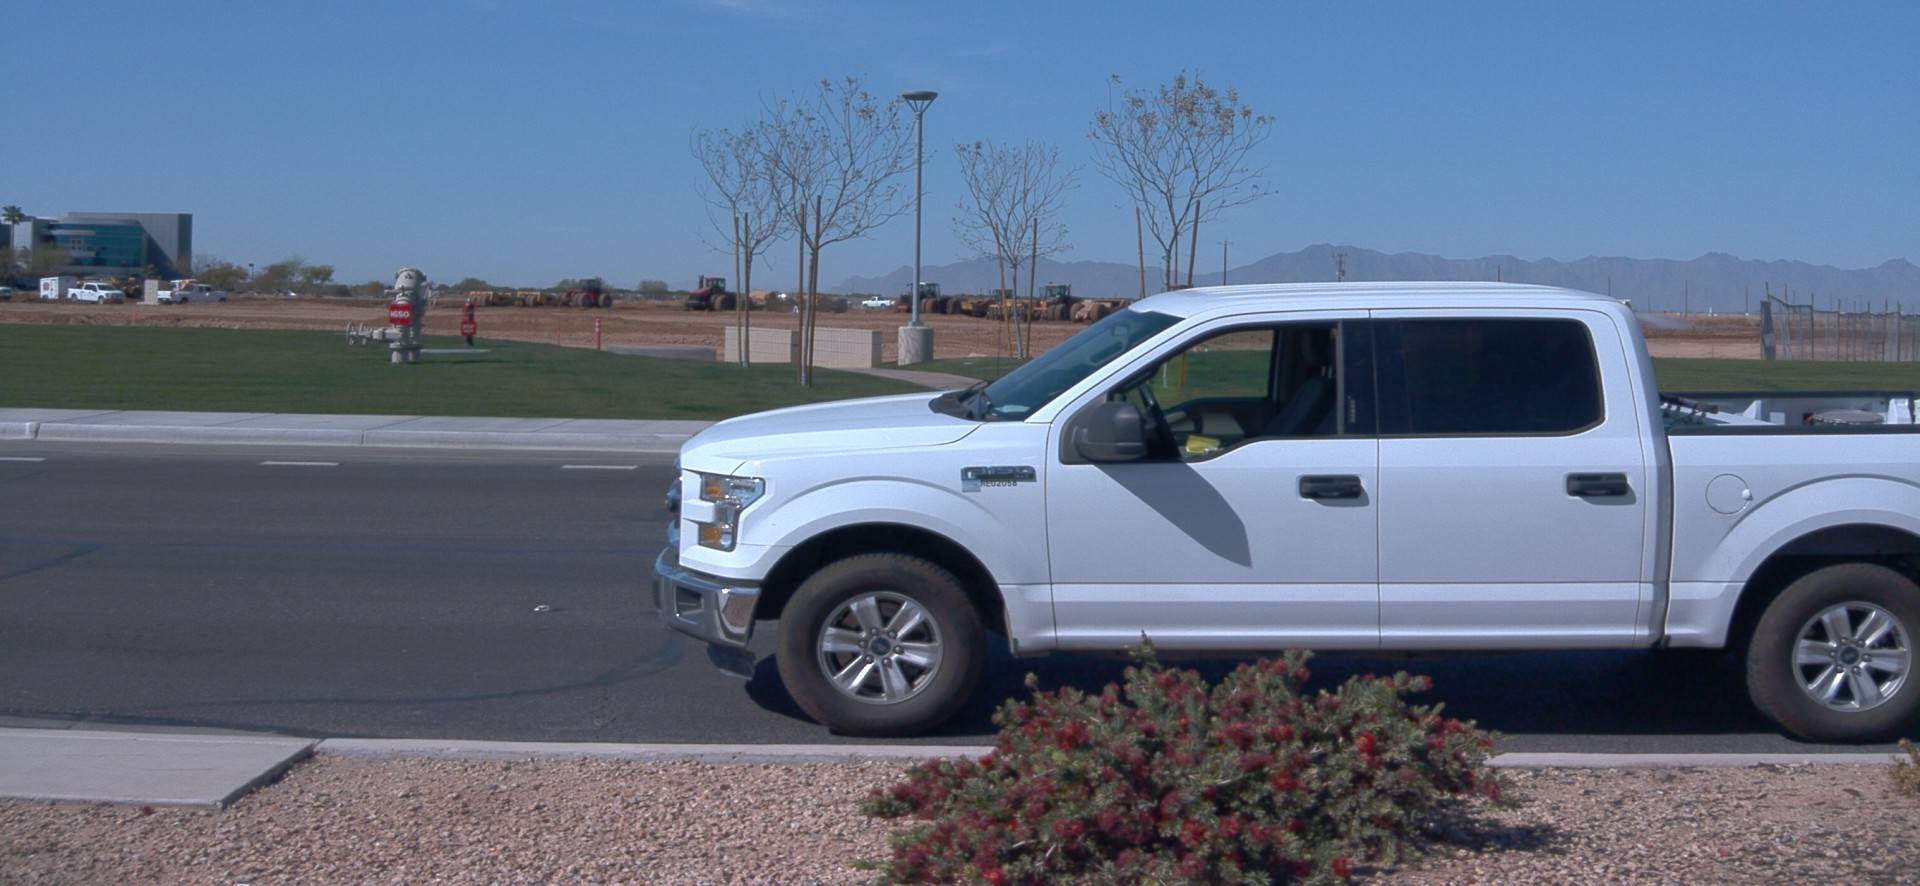TYPE_VEHICLE: (649, 285, 1920, 751), (962, 283, 1041, 323), (895, 278, 964, 318), (688, 276, 756, 315), (1020, 283, 1083, 323), (555, 279, 613, 313), (467, 290, 546, 309), (158, 285, 228, 306), (1068, 301, 1132, 323), (72, 276, 140, 296), (39, 275, 81, 306), (67, 282, 125, 304), (859, 296, 900, 310), (1616, 297, 1635, 311), (0, 285, 12, 301)
